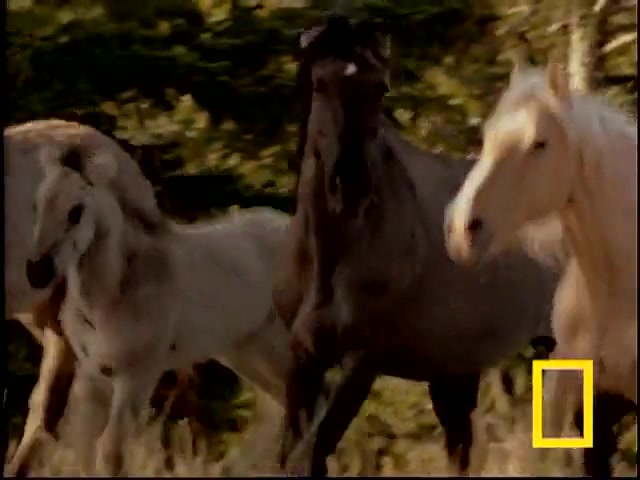horse: (278, 27, 554, 480)
